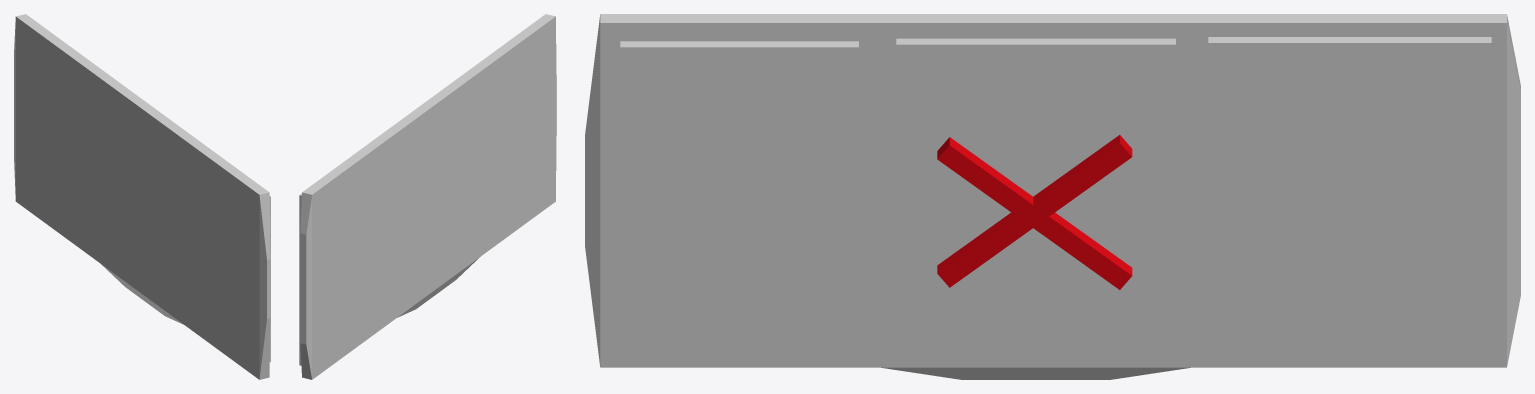
The model's file is x sign.fbx.
3 renders of one model, left to right at view 1: azimuth 30°, elevation 25°; view 2: azimuth 150°, elevation 25°; view 3: azimuth 270°, elevation 25°, orthographic. The views are drawn at different scales.
Parts seen in each view (by area): view 1: SPEECH BUBBLE; view 2: SPEECH BUBBLE; view 3: SPEECH BUBBLE.003, SPEECH BUBBLE, SPEECH BUBBLE.002, SPEECH BUBBLE.001, Cube.
Part boxes in pixels (box(x1,y1,x2,y2)): SPEECH BUBBLE: box(14, 14, 270, 379); SPEECH BUBBLE: box(299, 14, 556, 379); SPEECH BUBBLE.003: box(1208, 43, 1491, 359); SPEECH BUBBLE: box(585, 14, 1520, 379); SPEECH BUBBLE.002: box(896, 44, 1175, 357); SPEECH BUBBLE.001: box(620, 47, 858, 355); Cube: box(937, 135, 1132, 289).
Size of the model in its own units: 29.36 by 209 by 493.
